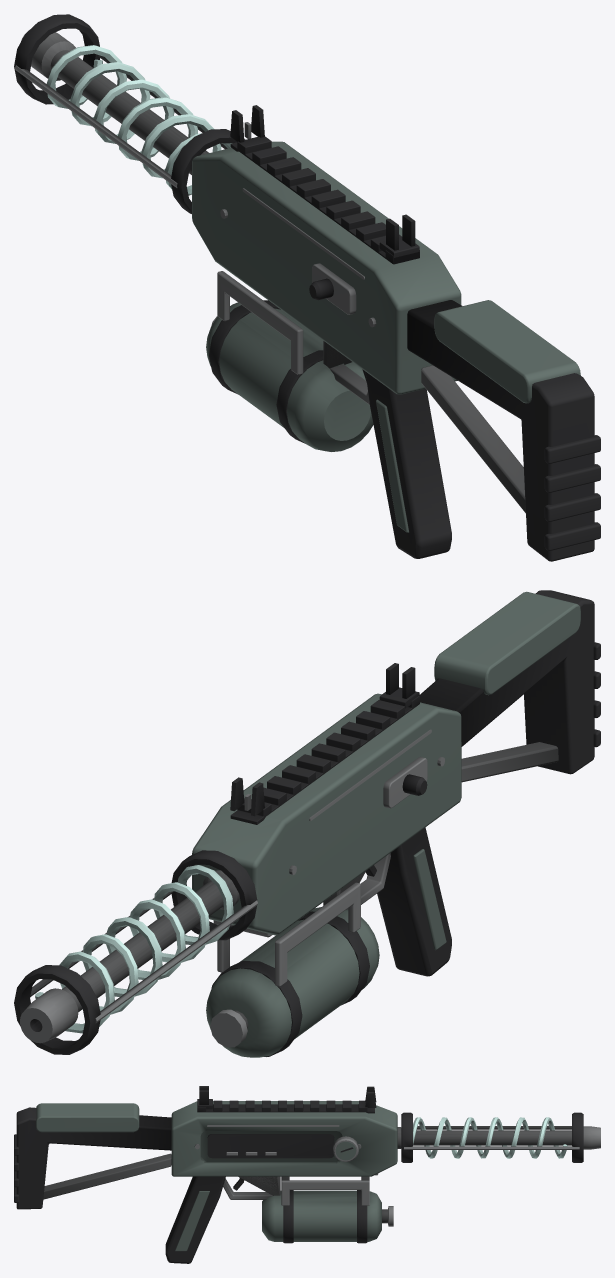
File: cryo_lance.glb
The picture shows the model from 3 angles, top to bottom: view 1: azimuth 30°, elevation 25°; view 2: azimuth 150°, elevation 25°; view 3: azimuth 270°, elevation 25°; orthographic projection. The views are drawn at different scales.
Parts seen in each view (by area): view 1: Receiver, Stock, Magazine, Barrel, CondenserCoils, IronSights, Bolt; view 2: Receiver, Stock, Magazine, Barrel, CondenserCoils, IronSights, Bolt; view 3: Receiver, Stock, Magazine, Barrel, CondenserCoils, PressureGauge, IronSights.
Part boxes in pixels (left/top/right/bottom): Receiver: left=192, top=136, right=461, bottom=558; Stock: left=407, top=300, right=600, bottom=561; Magazine: left=206, top=271, right=373, bottom=451; Barrel: left=14, top=14, right=245, bottom=213; CondenserCoils: left=46, top=45, right=232, bottom=195; IronSights: left=230, top=105, right=419, bottom=257; Bolt: left=309, top=263, right=356, bottom=314; Receiver: left=192, top=693, right=461, bottom=976; Stock: left=419, top=590, right=600, bottom=782; Magazine: left=206, top=882, right=379, bottom=1057; Barrel: left=14, top=850, right=257, bottom=1054; CondenserCoils: left=35, top=865, right=233, bottom=1033; IronSights: left=230, top=663, right=419, bottom=816; Bolt: left=383, top=757, right=427, bottom=808; Receiver: left=165, top=1100, right=397, bottom=1263; Stock: left=14, top=1103, right=171, bottom=1209; Magazine: left=262, top=1176, right=393, bottom=1243; Barrel: left=397, top=1112, right=600, bottom=1162; CondenserCoils: left=413, top=1117, right=567, bottom=1158; PressureGauge: left=333, top=1136, right=358, bottom=1161; IronSights: left=197, top=1086, right=376, bottom=1109.
Bounding box in the file's own units: 0.0995 × 0.2928 × 0.909.
